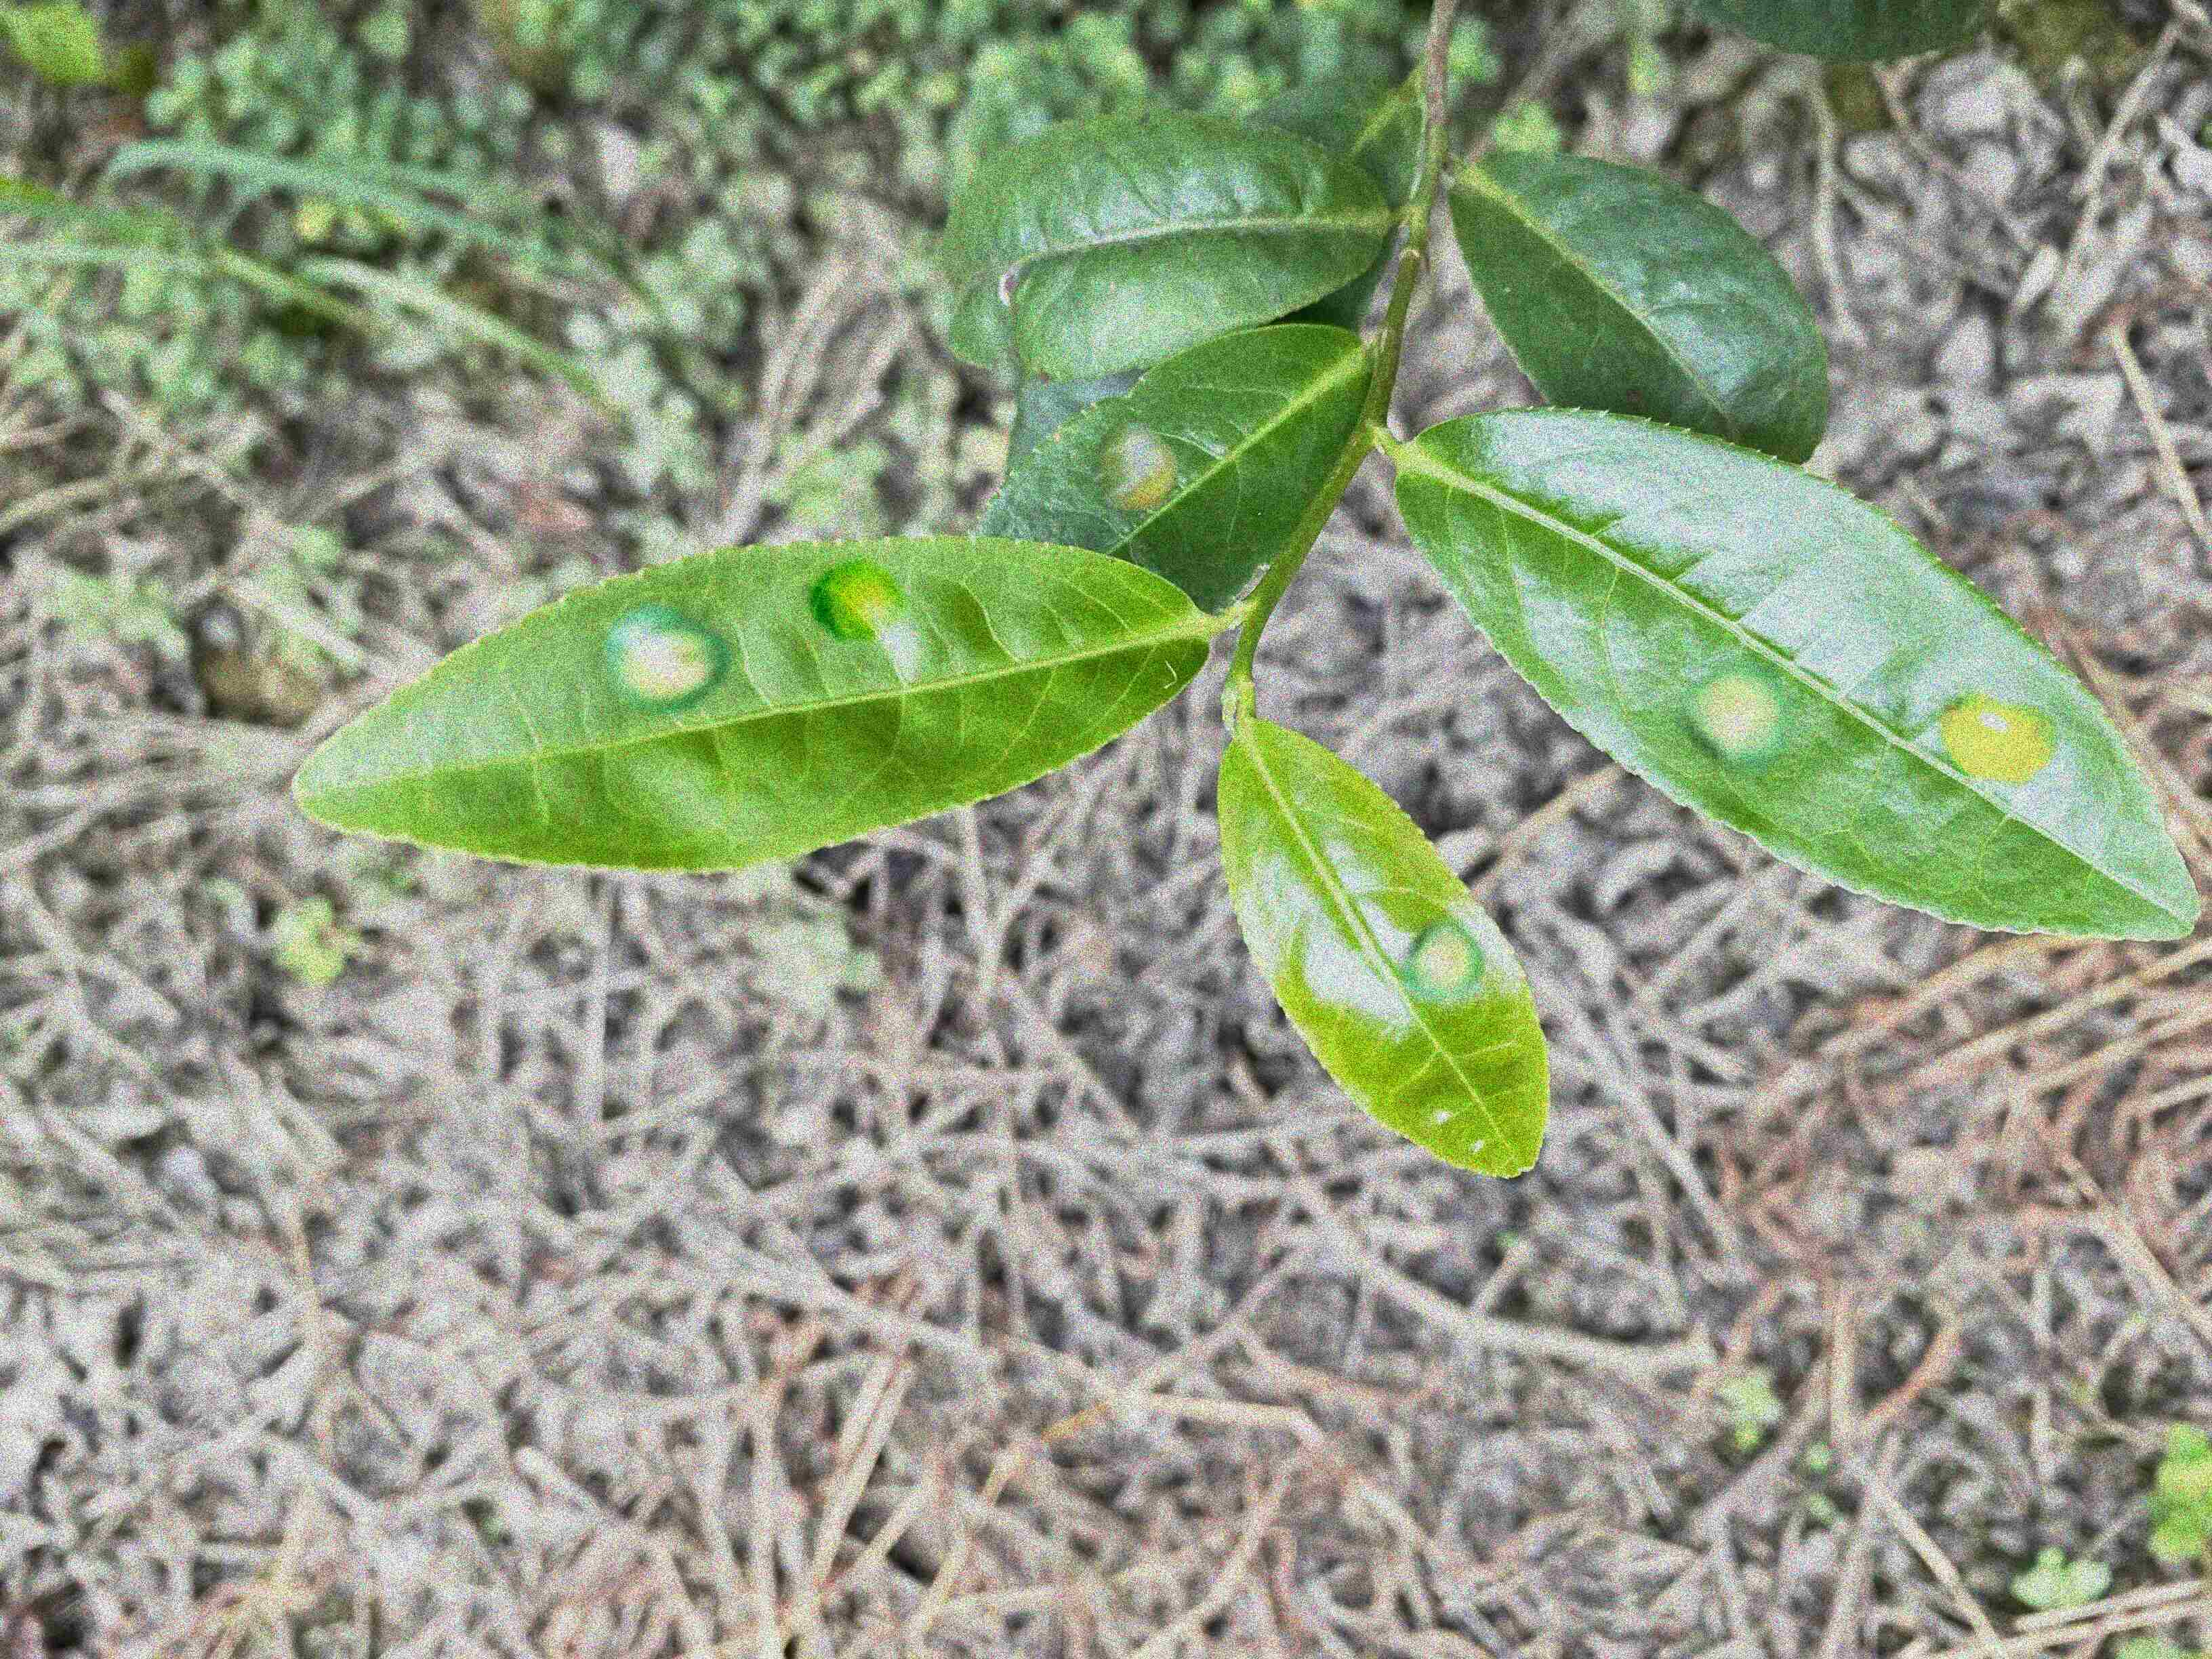chabing_high: (1399, 406, 2200, 939), (291, 530, 1212, 873)
chabing_low: (1212, 716, 1550, 1178), (970, 324, 1376, 606)
tanju_low: (937, 105, 1393, 376)
